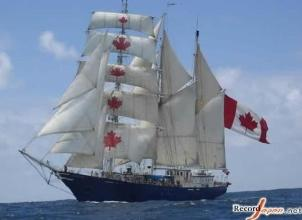fanchuan: (16, 1, 265, 197)
